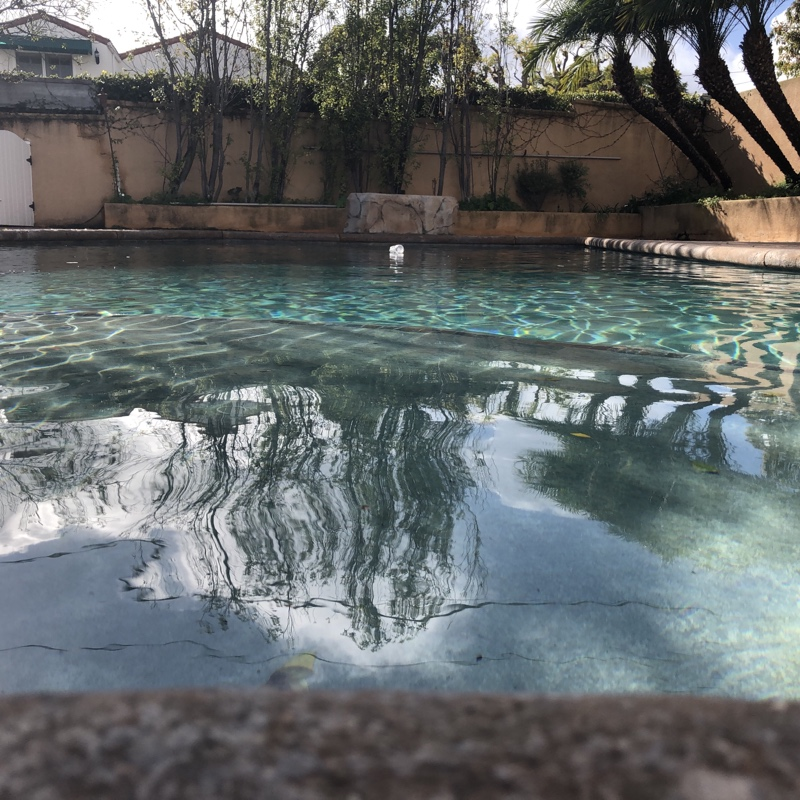Plastic Bottle: (388, 244, 406, 259)
